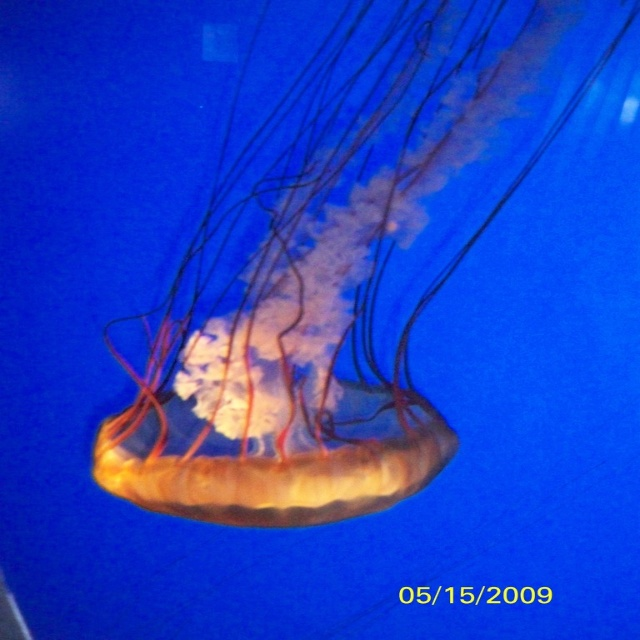Jellyfish: (87, 0, 639, 530)
